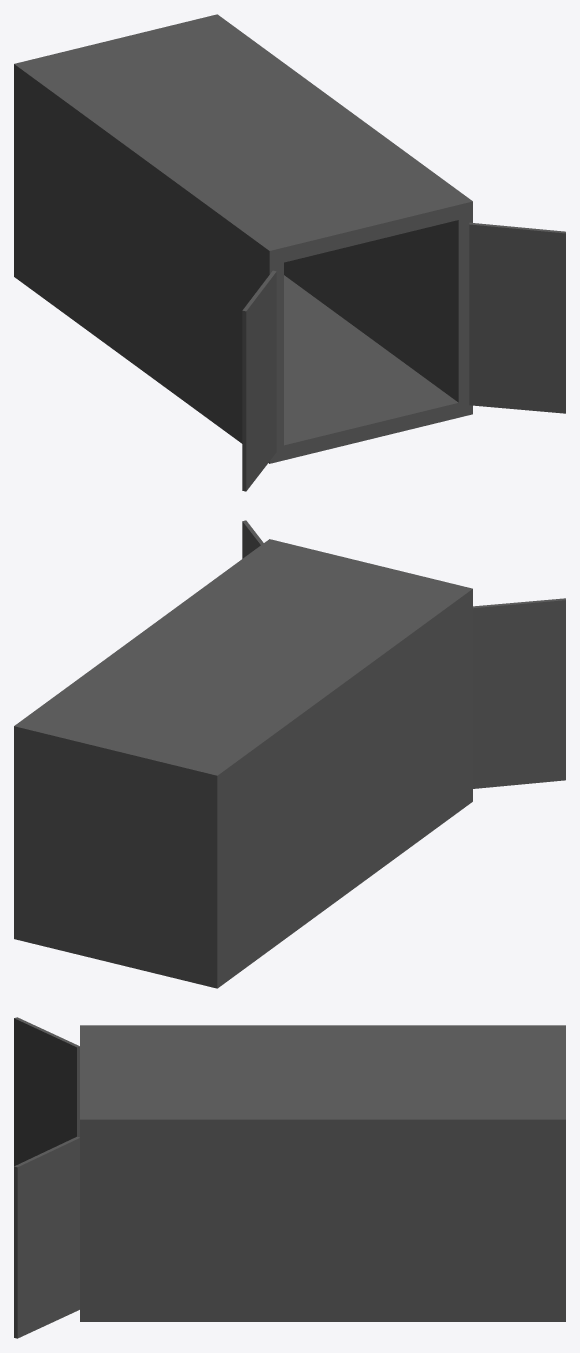
The model's file is container 1.fbx.
The picture shows the model from 3 angles, top to bottom: view 1: azimuth 30°, elevation 25°; view 2: azimuth 150°, elevation 25°; view 3: azimuth 270°, elevation 25°; orthographic projection. The views are drawn at different scales.
Parts seen in each view (by area): view 1: Cube.002, Cube.003; view 2: Cube.002, Cube.003; view 3: Cube.002, Cube.003.
Boxes of the visible parts, x1,y1,x2,y2 form: Cube.002: [14, 14, 472, 463]; Cube.003: [242, 222, 565, 491]; Cube.002: [14, 539, 472, 988]; Cube.003: [242, 520, 565, 788]; Cube.002: [80, 1025, 565, 1321]; Cube.003: [14, 1017, 79, 1338].
Size of the model in its own units: 1337 by 841 by 2078.
2 materials, 2 textured.
